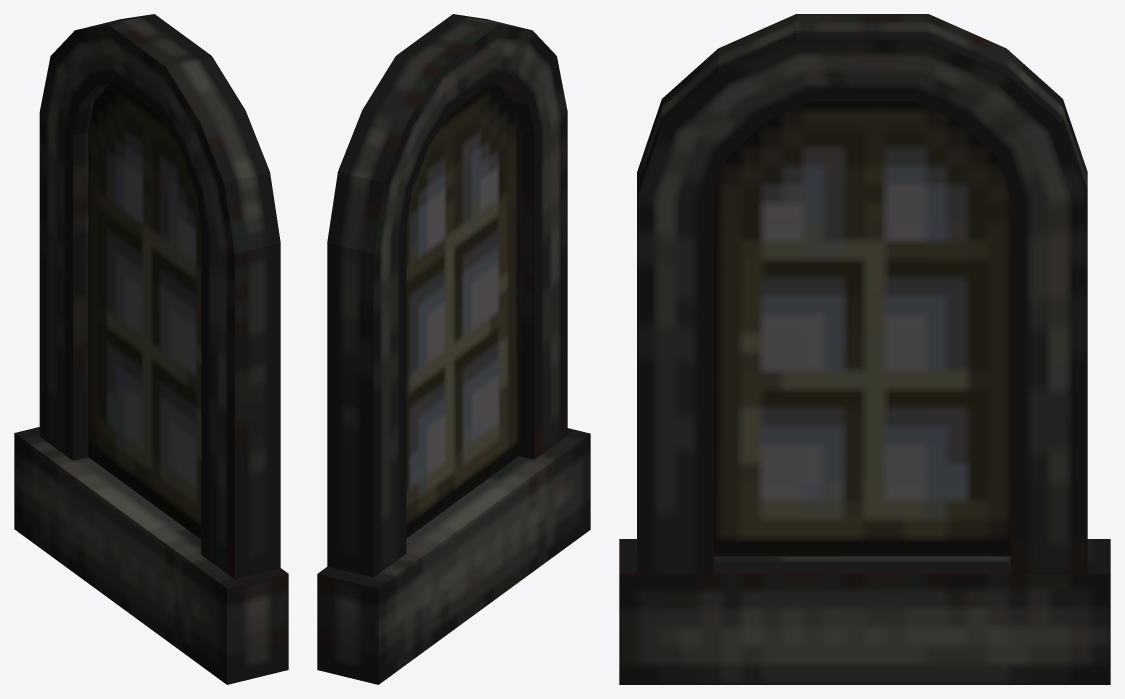
File: EnvBdgMD_Forest_A_Indoor_Window_A.FBX
The picture shows the model from 3 angles, left to right: view 1: azimuth 30°, elevation 25°; view 2: azimuth 150°, elevation 25°; view 3: azimuth 270°, elevation 25°; orthographic projection. The views are drawn at different scales.
Visible parts, largest first — view 1: EnvBdgMD_Forest_A_Indoor_Window_A; view 2: EnvBdgMD_Forest_A_Indoor_Window_A; view 3: EnvBdgMD_Forest_A_Indoor_Window_A.
Boxes of the visible parts, x1,y1,x2,y2 form: EnvBdgMD_Forest_A_Indoor_Window_A: (14,14,288,684); EnvBdgMD_Forest_A_Indoor_Window_A: (317,14,590,684); EnvBdgMD_Forest_A_Indoor_Window_A: (619,14,1110,684).
Size of the model in its own units: 20 by 174 by 120.
